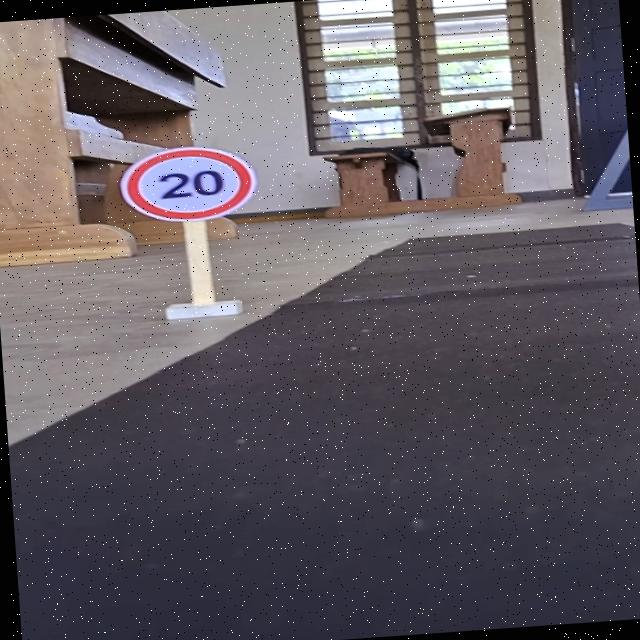Speed20: (108, 140, 261, 228)
